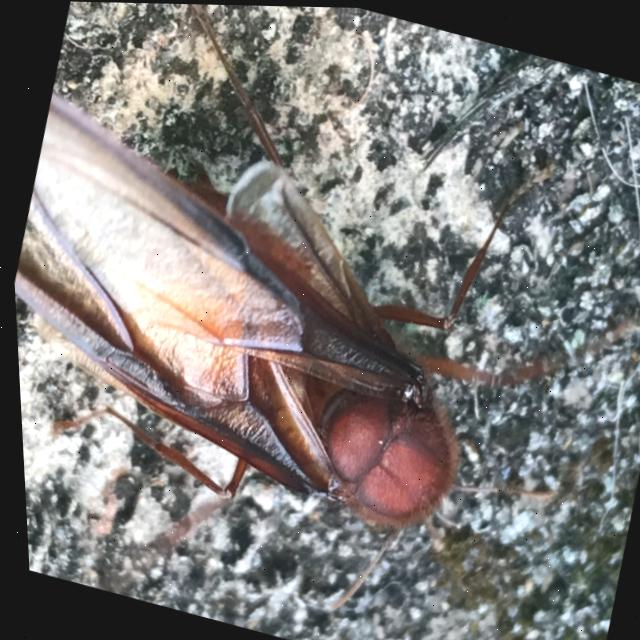Alive-Male-Alate: (4, 90, 622, 640)
